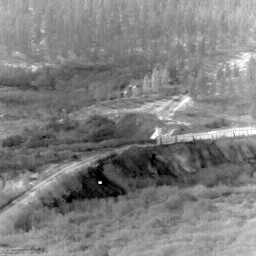Target: (97, 180, 103, 186)
